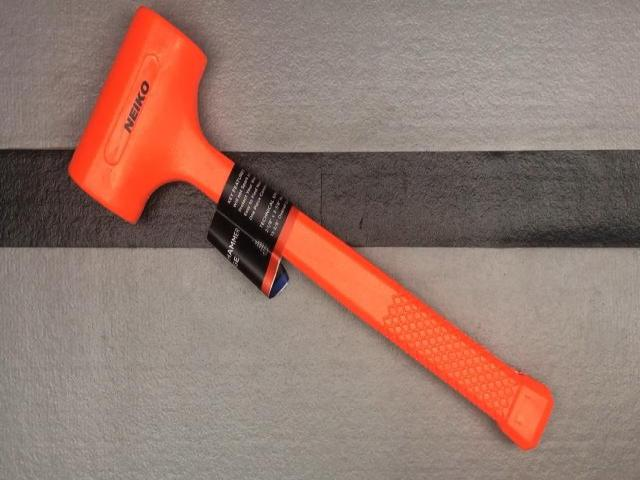hammer: (70, 8, 555, 450)
